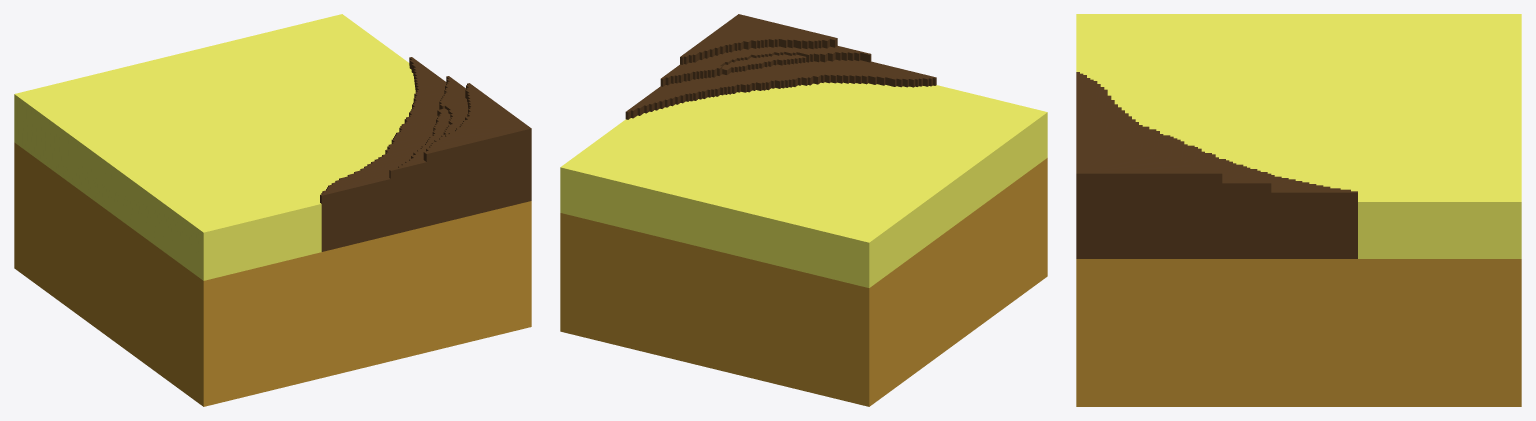
3 views of the same model, side by side, from view 1: azimuth 30°, elevation 25°; view 2: azimuth 150°, elevation 25°; view 3: azimuth 270°, elevation 25° (orthographic). The views are drawn at different scales.
Visible parts, largest first — view 1: 2O; view 2: 2O; view 3: 2O.
Boxes of the visible parts, x1,y1,x2,y2 form: 2O: [14, 14, 531, 406]; 2O: [560, 14, 1047, 406]; 2O: [1076, 14, 1521, 406].
Size of the model in its own units: 12.8 by 7.4 by 12.8.
Materials: 1 (1 with a texture image).
